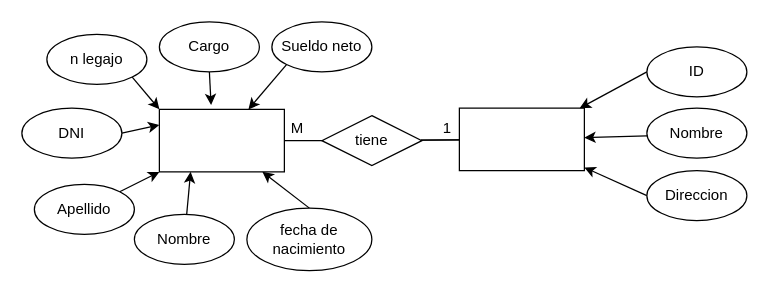
Some shapes in this 779 by 293 pixel diagram are drawn without their labels. The shapes that lost their labels are listed below. From the top down, each one's centre as x and y in pixels, then its label:
At (221,140): "Empleado".
At (521,139): "Departamento".
